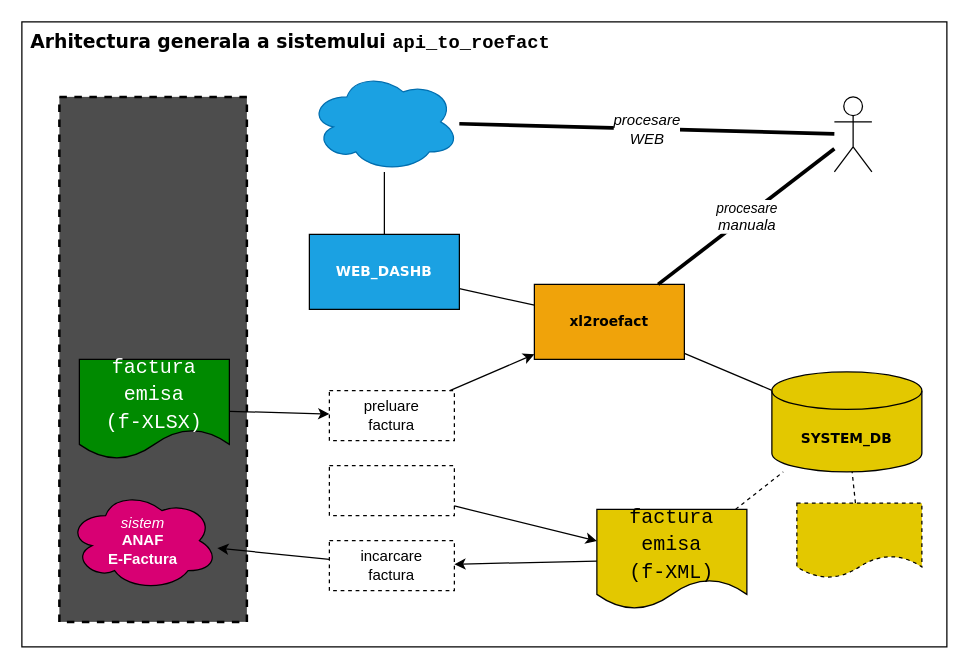
The diagram is 969 pixels wide and 669 high, and some of its shapes have lost their labels. Here are the shapes that lost their labels. From the top down, the box of each, then its label:
(308, 71, 459, 172): web
(833, 96, 872, 172): client
(58, 95, 248, 622): elemente externe sistemului api_to_roefact
(328, 464, 454, 516): generare factura
(796, 502, 922, 578): factura emisa (f-JSON)
